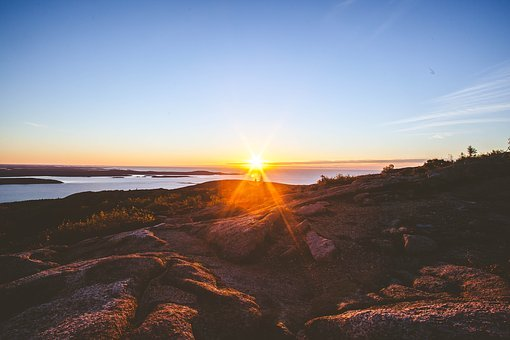field: (12, 191, 509, 336)
sky: (1, 3, 506, 170)
